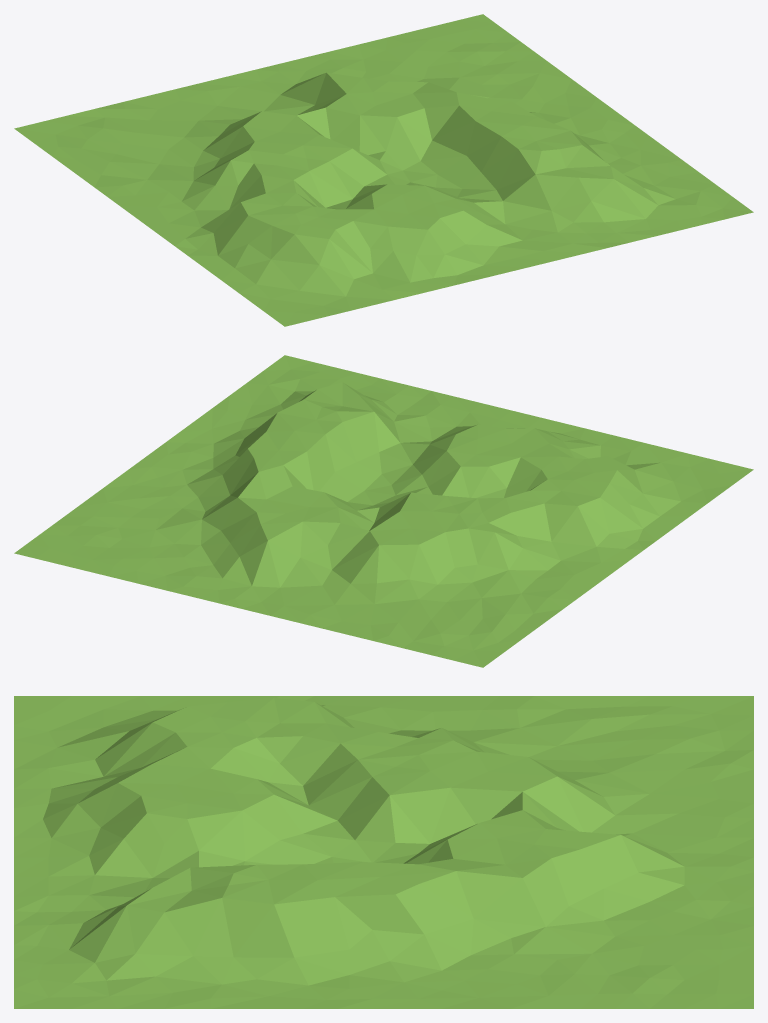
The model's file is MT_Terrain_M_c_02.fbx.
The picture shows the model from 3 angles, top to bottom: view 1: azimuth 30°, elevation 25°; view 2: azimuth 150°, elevation 25°; view 3: azimuth 270°, elevation 25°; orthographic projection. The views are drawn at different scales.
Visible parts, largest first — view 1: MT_Terrain_M_c_02; view 2: MT_Terrain_M_c_02; view 3: MT_Terrain_M_c_02.
Boxes of the visible parts, <box> form: MT_Terrain_M_c_02: <box>14,14,753,326</box>; MT_Terrain_M_c_02: <box>14,355,753,667</box>; MT_Terrain_M_c_02: <box>14,696,753,1008</box>.
Size of the model in its own units: 5000 by 366 by 5000.
